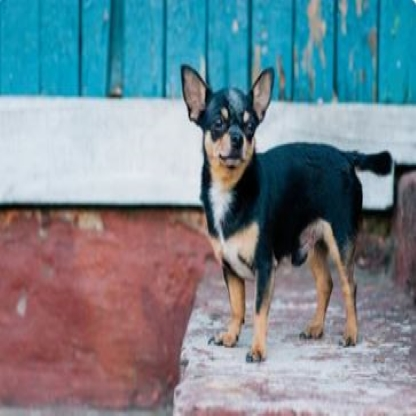chihuahua: (179, 63, 395, 362)
